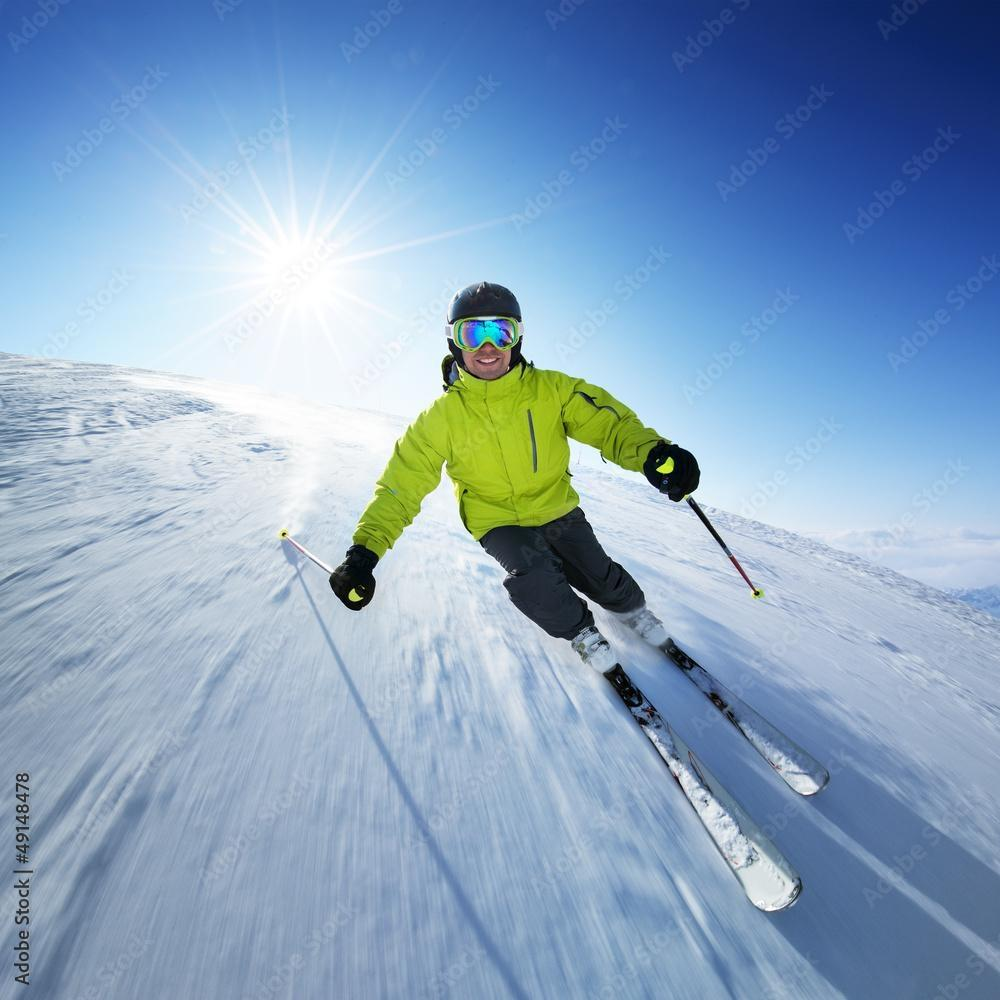Skis: (550, 587, 862, 938)
